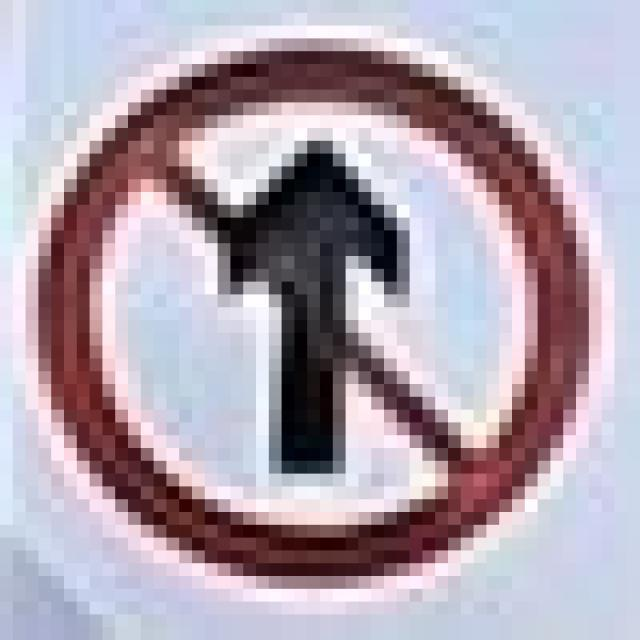straight prohibited: (40, 34, 585, 580)
